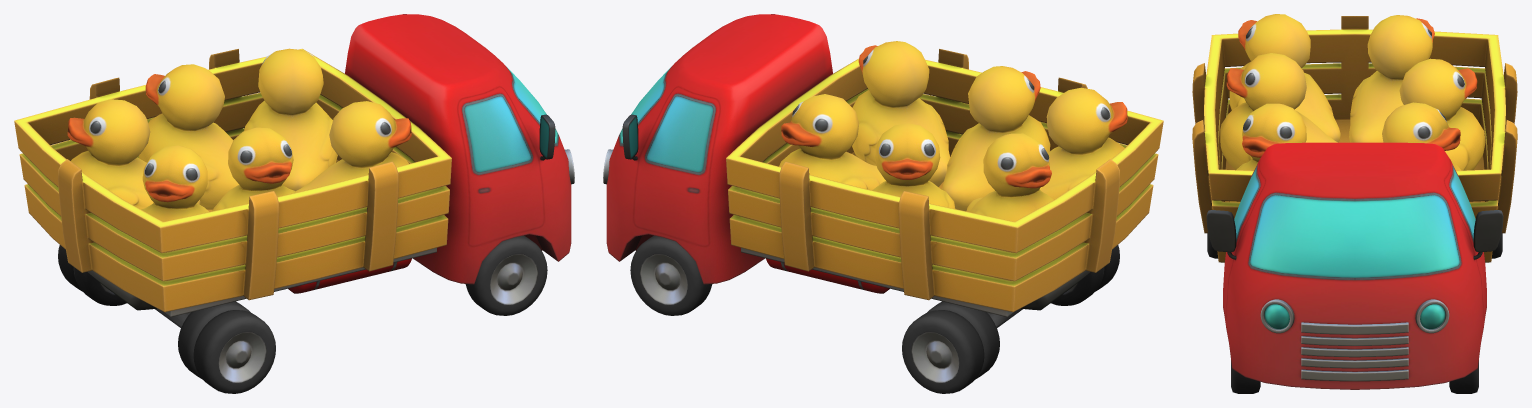
File: car_with_ducks.glb
The picture shows the model from 3 angles, left to right: view 1: azimuth 30°, elevation 25°; view 2: azimuth 150°, elevation 25°; view 3: azimuth 270°, elevation 25°; orthographic projection. The views are drawn at different scales.
Parts seen in each view (by area): view 1: Car, Duck006, Duck007, Duck005, Duck002, Duck004, Duck003; view 2: Car, Duck002, Duck004, Duck003, Duck007, Duck005, Duck006; view 3: Car, Duck005, Duck004, Duck006, Duck003, Duck002, Duck007.
Part boxes in pixels (x1=…): Car: x1=14, y1=14, x2=574, y2=393; Duck006: x1=138, y1=64, x2=238, y2=209; Duck007: x1=244, y1=48, x2=337, y2=191; Duck005: x1=67, y1=99, x2=200, y2=209; Duck002: x1=295, y1=101, x2=411, y2=192; Duck004: x1=212, y1=127, x2=295, y2=211; Duck003: x1=141, y1=145, x2=208, y2=252; Car: x1=603, y1=14, x2=1163, y2=393; Duck002: x1=852, y1=41, x2=950, y2=186; Duck004: x1=942, y1=66, x2=1050, y2=211; Duck003: x1=1039, y1=87, x2=1127, y2=199; Duck007: x1=779, y1=94, x2=885, y2=190; Duck005: x1=966, y1=133, x2=1053, y2=252; Duck006: x1=872, y1=123, x2=955, y2=208; Car: x1=1192, y1=16, x2=1517, y2=393; Duck005: x1=1349, y1=15, x2=1434, y2=142; Duck004: x1=1220, y1=53, x2=1337, y2=169; Duck006: x1=1399, y1=58, x2=1485, y2=170; Duck003: x1=1229, y1=14, x2=1340, y2=142; Duck002: x1=1230, y1=103, x2=1306, y2=202; Duck007: x1=1382, y1=102, x2=1460, y2=170.
Size of the model in its own units: 1.62 by 0.7407 by 0.9783.
Materials: 2 (2 with a texture image).
